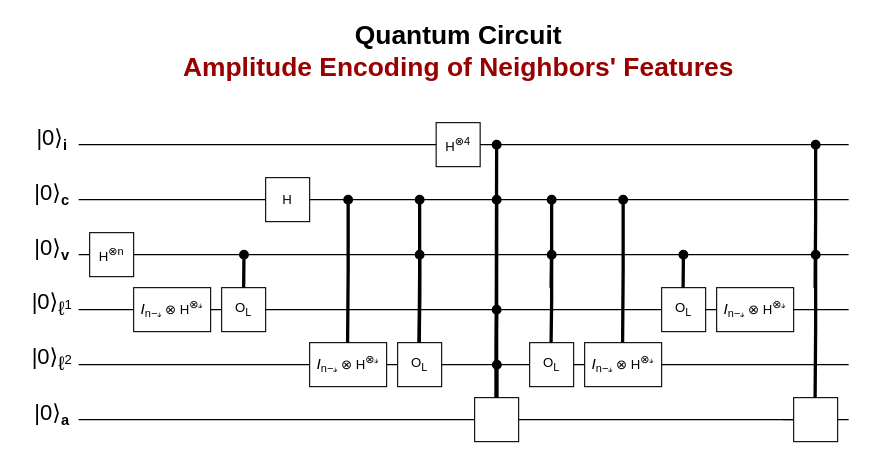
Image size: 869x461. Some labels were removed from this diagram. The shapes that lost their labels are listed below. From the top down, each one's centre as x and y in pixels, then its label:
At pixel 496 419: "O X".
At pixel 815 419: "O K -1".
